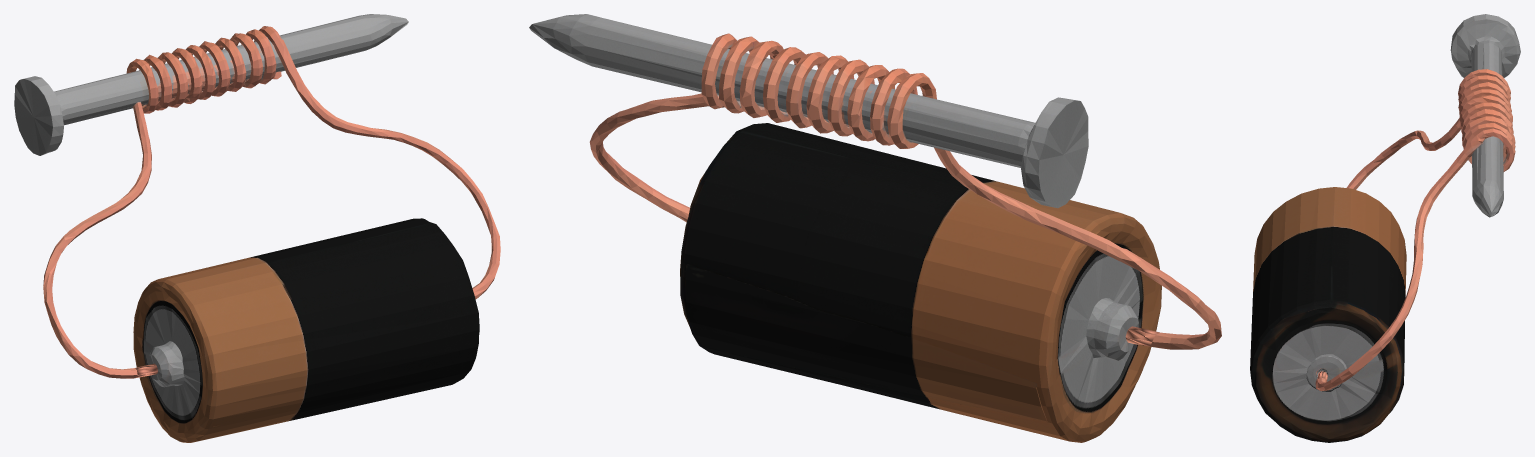
The model's file is electroNewEdited.glb.
The picture shows the model from 3 angles, left to right: view 1: azimuth 30°, elevation 25°; view 2: azimuth 150°, elevation 25°; view 3: azimuth 270°, elevation 25°; orthographic projection. The views are drawn at different scales.
Visible parts, largest first — view 1: mesh_node; view 2: mesh_node; view 3: mesh_node.
Part boxes in pixels (x1=…): mesh_node: x1=14, y1=14, x2=500, y2=442; mesh_node: x1=529, y1=14, x2=1221, y2=442; mesh_node: x1=1250, y1=14, x2=1520, y2=442.
Size of the model in its own units: 1 by 0.6875 by 0.5879.
Materials: 1 (1 with a texture image).
